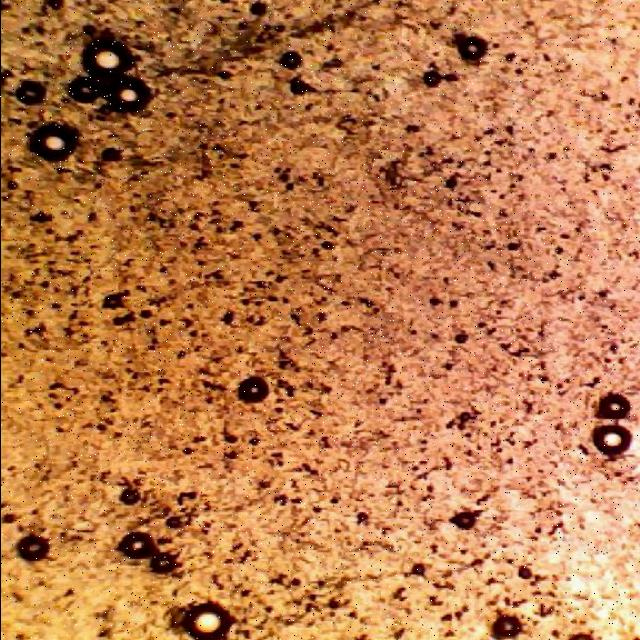microbeads: (24, 121, 78, 165), (180, 598, 232, 640), (102, 76, 150, 114), (114, 528, 156, 564), (588, 424, 632, 458), (230, 374, 272, 406), (14, 532, 51, 564), (488, 612, 522, 640)
